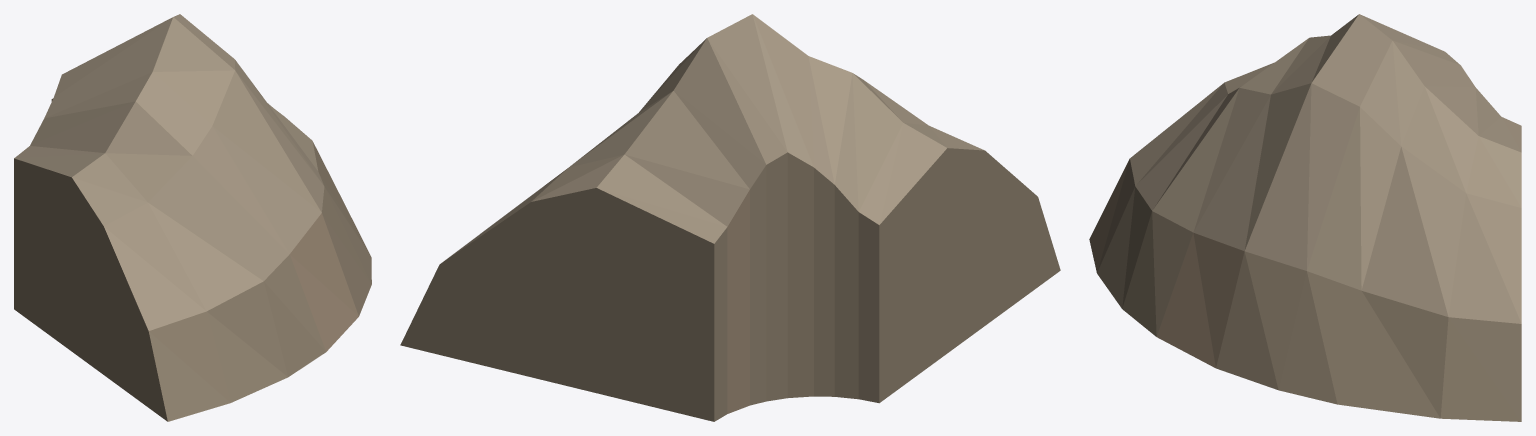
Rendered from coast_rock_outer_high.glb.
3 renders of one model, left to right at view 1: azimuth 30°, elevation 25°; view 2: azimuth 150°, elevation 25°; view 3: azimuth 270°, elevation 25°, orthographic. The views are drawn at different scales.
Parts seen in each view (by area): view 1: coast_rock_outer_high; view 2: coast_rock_outer_high; view 3: coast_rock_outer_high.
Boxes of the visible parts, x1,y1,x2,y2 form: coast_rock_outer_high: (14, 14, 371, 421); coast_rock_outer_high: (400, 14, 1060, 421); coast_rock_outer_high: (1089, 14, 1521, 421).
Size of the model in its own units: 1.6 by 1.2 by 1.6.
